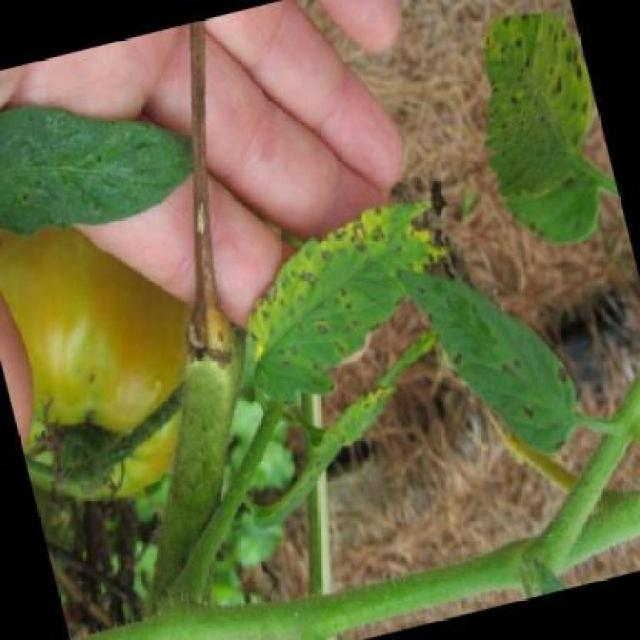Septoria leaf spot: (210, 184, 476, 416), (386, 232, 583, 478), (454, 0, 620, 265)
